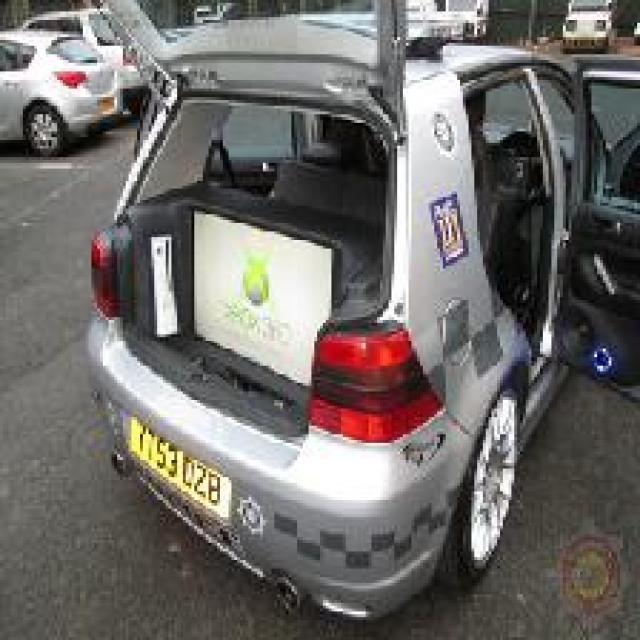Car: (69, 0, 637, 623)
